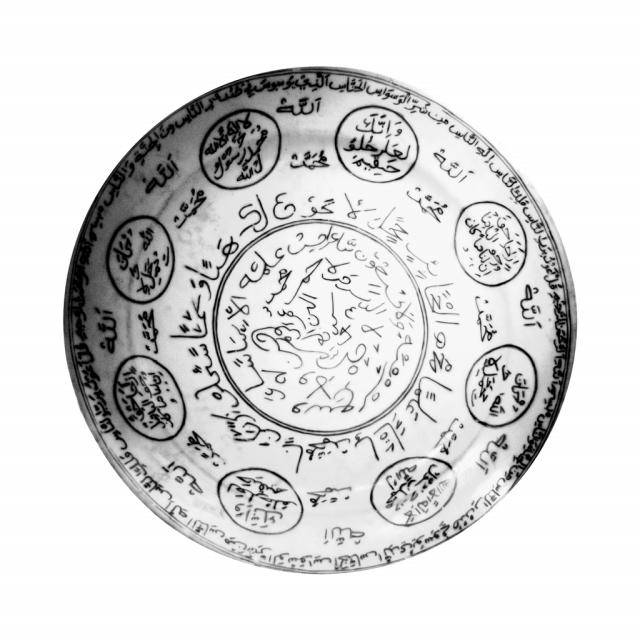non-organic waste: (74, 58, 576, 577)
